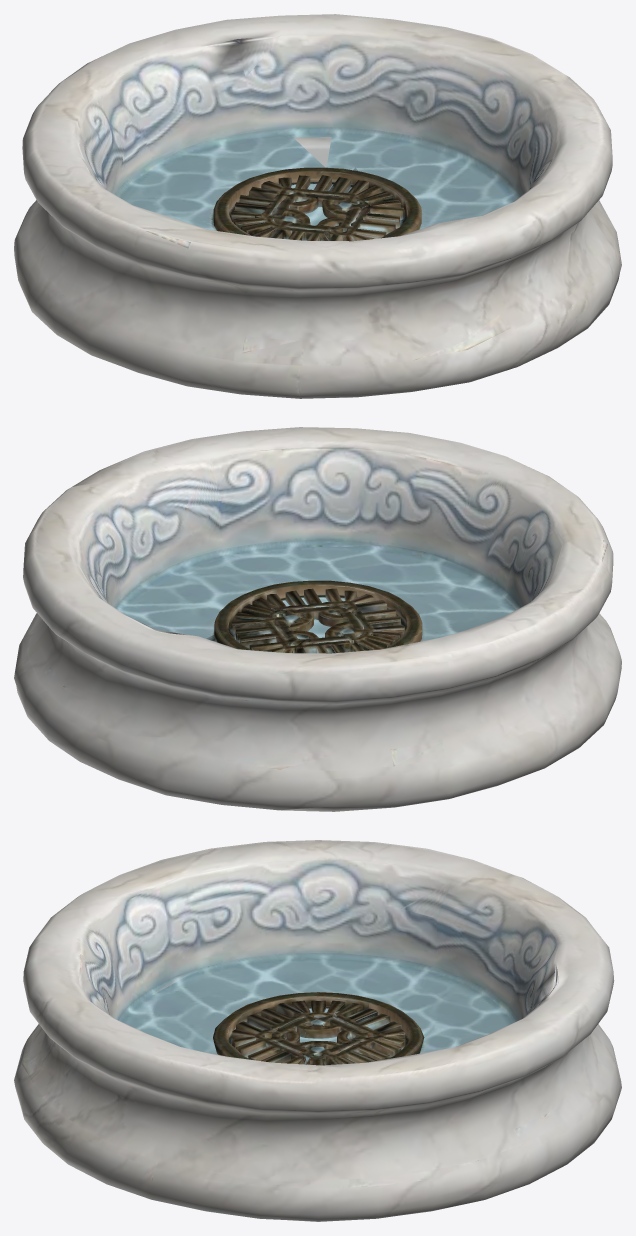
Rendered from cistern.glb.
The picture shows the model from 3 angles, top to bottom: view 1: azimuth 30°, elevation 25°; view 2: azimuth 150°, elevation 25°; view 3: azimuth 270°, elevation 25°; orthographic projection.
Bounding box in the file's own units: 3.96 × 1 × 3.99.
Materials: 1 (1 with a texture image).
